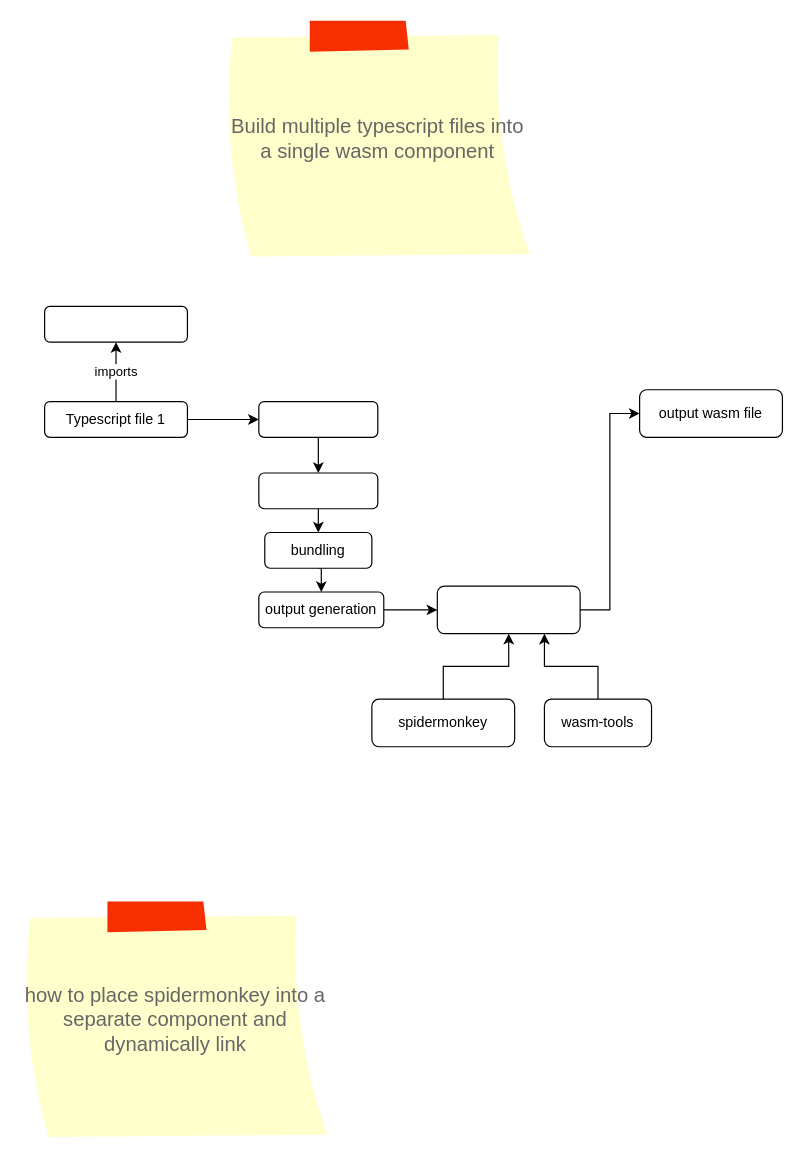
Image size: 803x1160. Some labels were removed from this diagram. The centre of each missing label's shape, as x and y in pixels:
esbuild: (x=318, y=418)
jco (API version): (x=508, y=609)
type stripping: (x=318, y=490)
Typescript file 2: (x=115, y=323)
